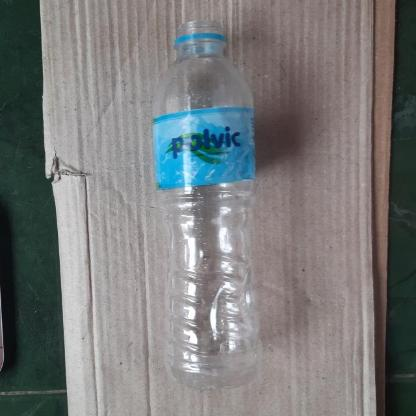Plastic Bottle: (150, 21, 258, 390)
